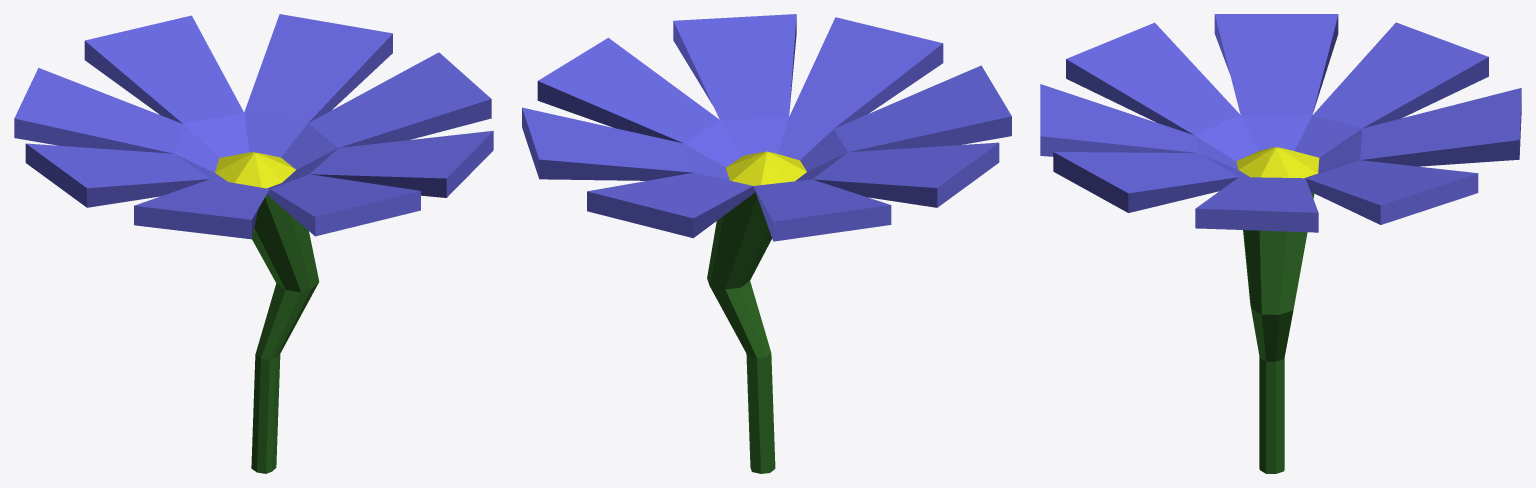
File: purple_flower.fbx
3 renders of one model, left to right at view 1: azimuth 30°, elevation 25°; view 2: azimuth 150°, elevation 25°; view 3: azimuth 270°, elevation 25°, orthographic.
Visible parts, largest first — view 1: Cube.002; view 2: Cube.002; view 3: Cube.002.
Part boxes in pixels (bbox=[...]): Cube.002: bbox=[14, 14, 493, 473]; Cube.002: bbox=[522, 14, 1011, 473]; Cube.002: bbox=[1040, 14, 1521, 473].
Size of the model in its own units: 0.3343 by 0.2778 by 0.3422.
